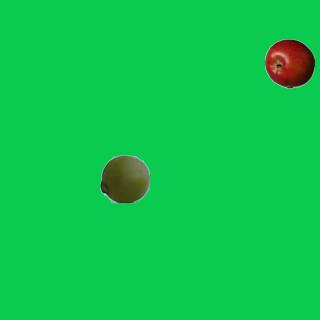Apple Braeburn: (264, 38, 314, 88)
Grape White 4: (99, 153, 149, 203)
